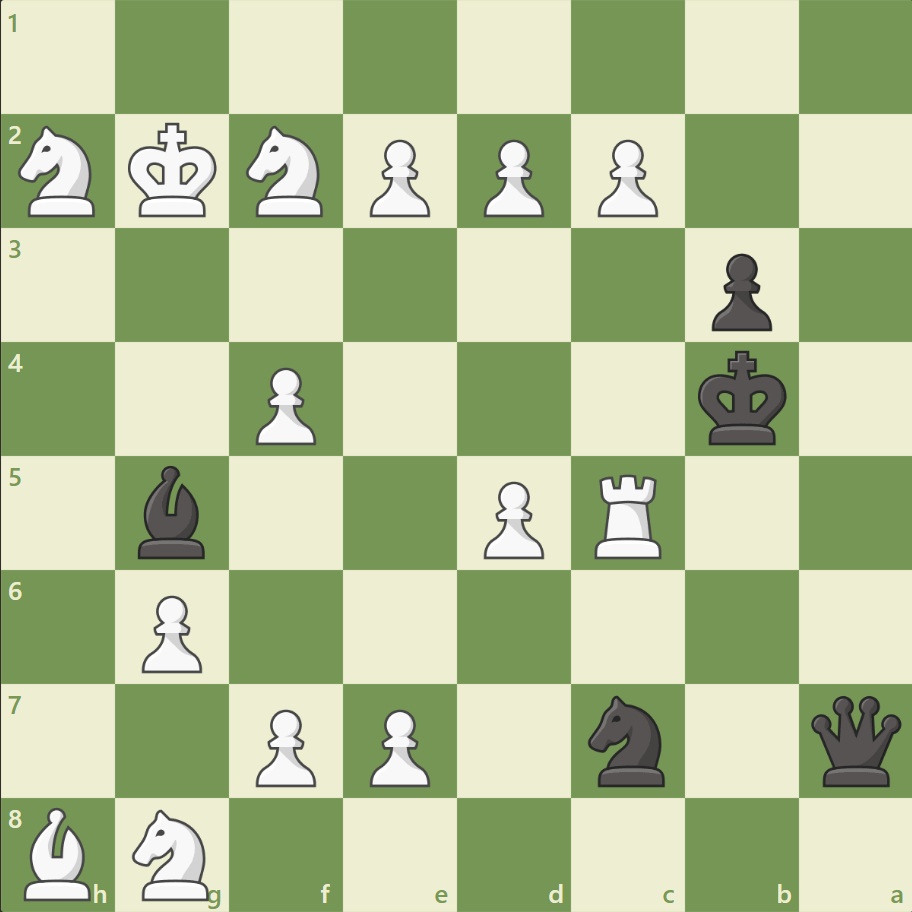B: (17, 801, 101, 904)
K: (124, 117, 224, 225)
N: (124, 802, 222, 904), (238, 121, 335, 223), (11, 121, 108, 223)
P: (247, 700, 322, 791), (133, 586, 208, 677), (474, 473, 549, 564), (247, 359, 322, 450), (474, 132, 549, 223), (361, 700, 435, 791), (588, 132, 662, 223), (361, 132, 435, 223)
R: (587, 466, 670, 563)
b: (131, 460, 215, 563)
k: (692, 344, 792, 452)
n: (579, 688, 676, 791)
p: (701, 246, 776, 337)
q: (805, 690, 904, 789)
